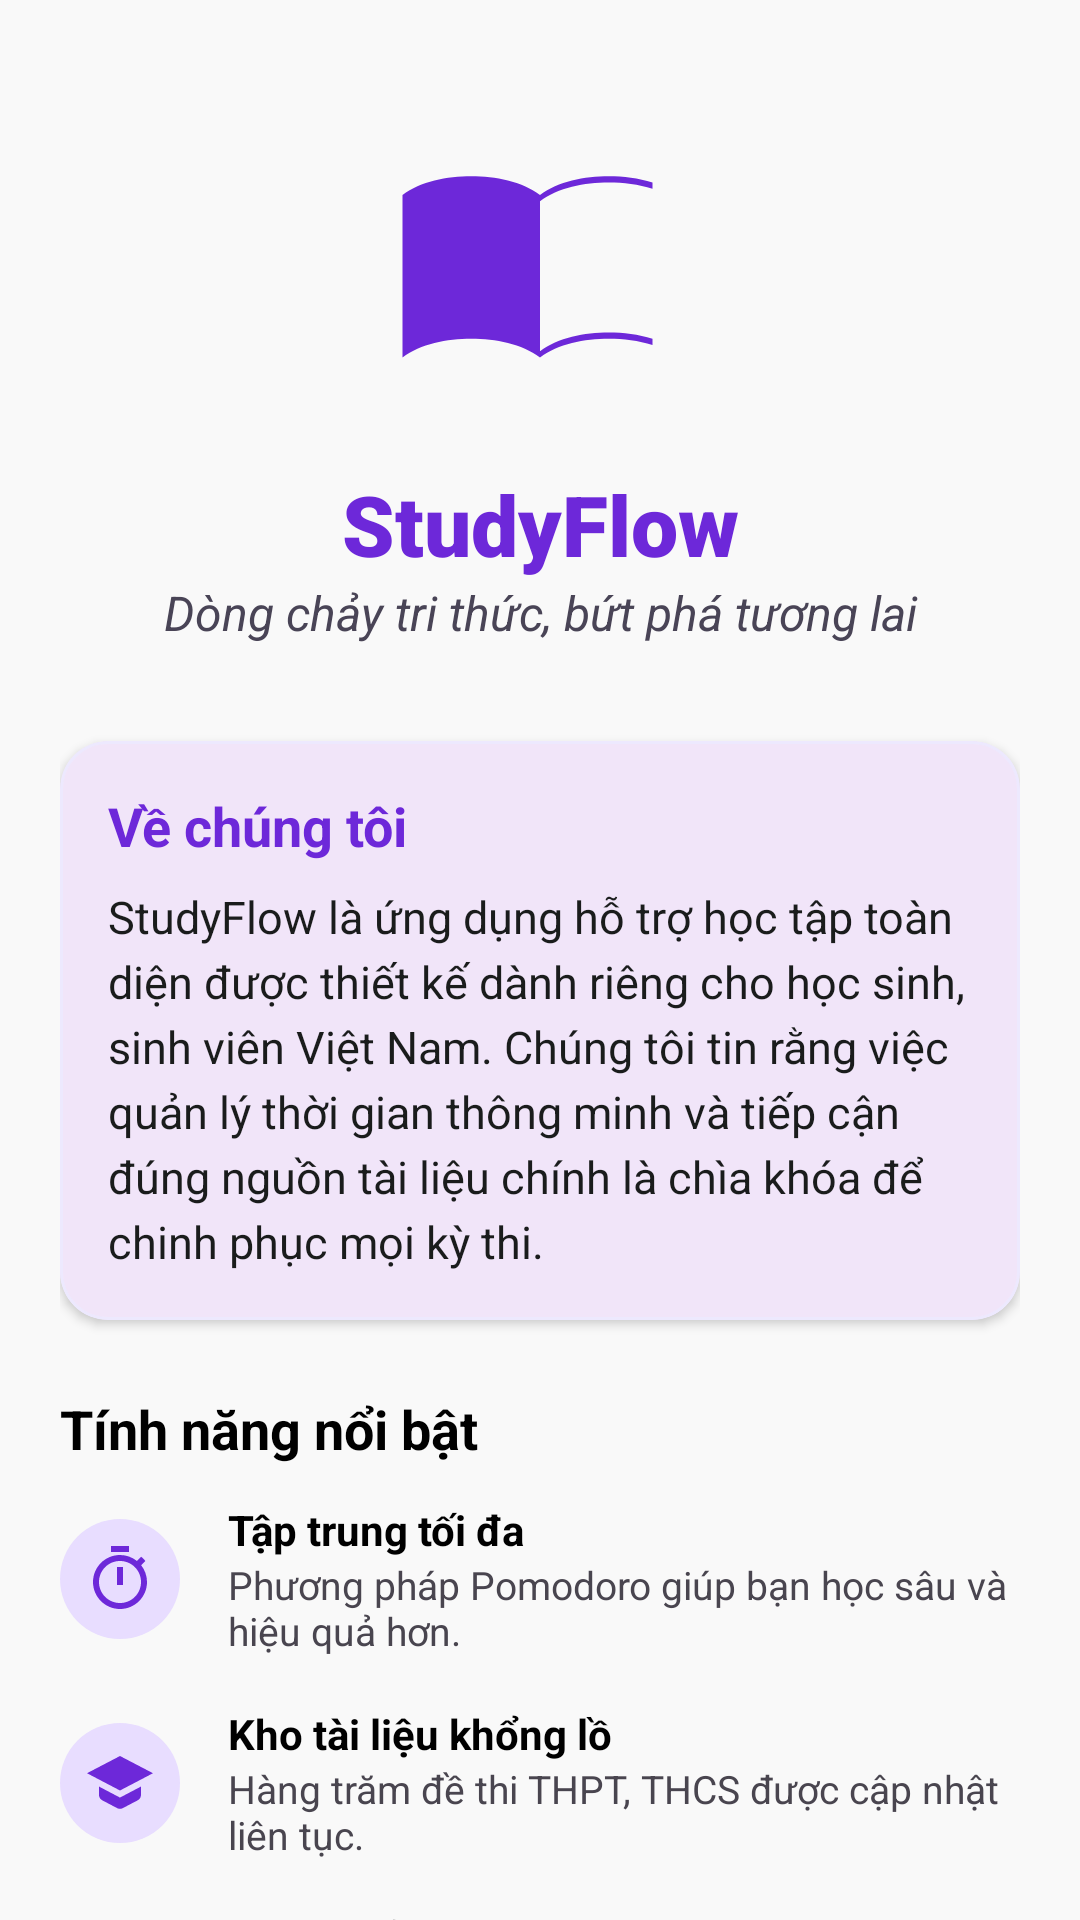

Screen size 1080×1920. Icon name, then its center in pixels as (x=x, y=y):
book: (x=527, y=267)
school: (x=120, y=1783)
timer: (x=120, y=1579)
